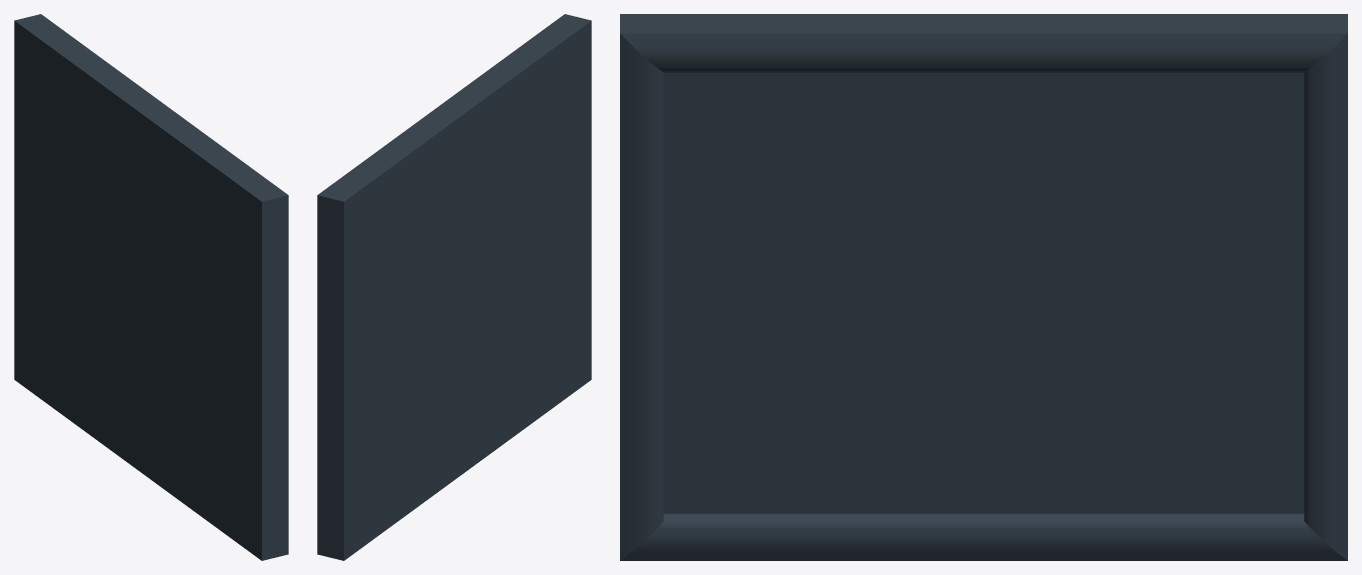
The model's file is EmptyFrame.fbx.
The picture shows the model from 3 angles, left to right: view 1: azimuth 30°, elevation 25°; view 2: azimuth 150°, elevation 25°; view 3: azimuth 270°, elevation 25°; orthographic projection. The views are drawn at different scales.
Parts seen in each view (by area): view 1: PictureFrame; view 2: PictureFrame; view 3: PictureFrame.
Part boxes in pixels (left/top/right/bottom): PictureFrame: left=14, top=14, right=288, bottom=560; PictureFrame: left=317, top=14, right=591, bottom=560; PictureFrame: left=620, top=14, right=1347, bottom=560.
Size of the model in its own units: 35 by 400 by 500.
